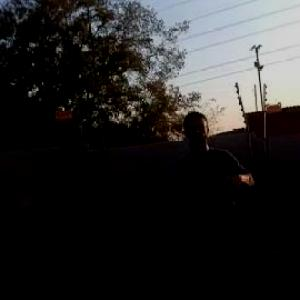follow: (170, 100, 270, 299)
